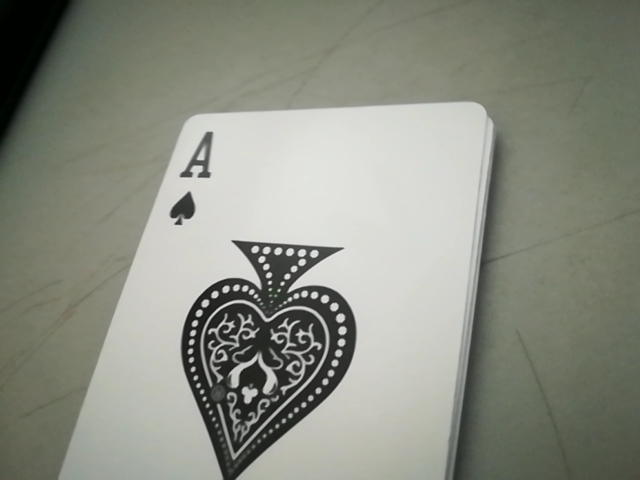ht a: (156, 133, 218, 233)
